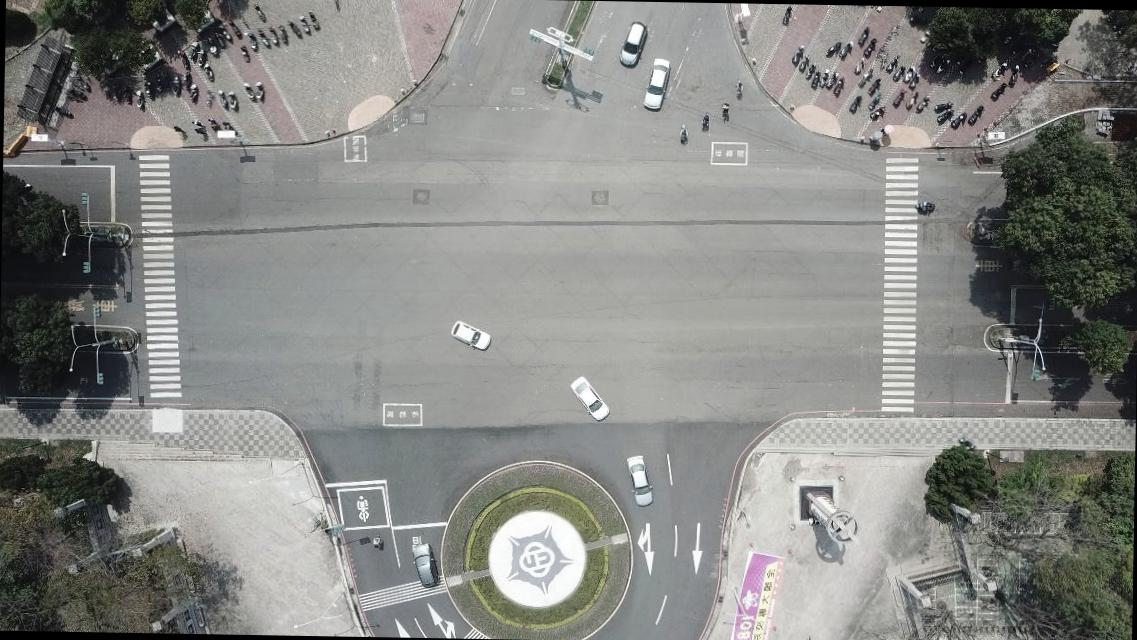vehicle: (567, 374, 611, 422), (640, 56, 672, 111), (624, 453, 656, 508), (618, 18, 650, 68), (449, 319, 491, 352), (410, 542, 438, 588)
